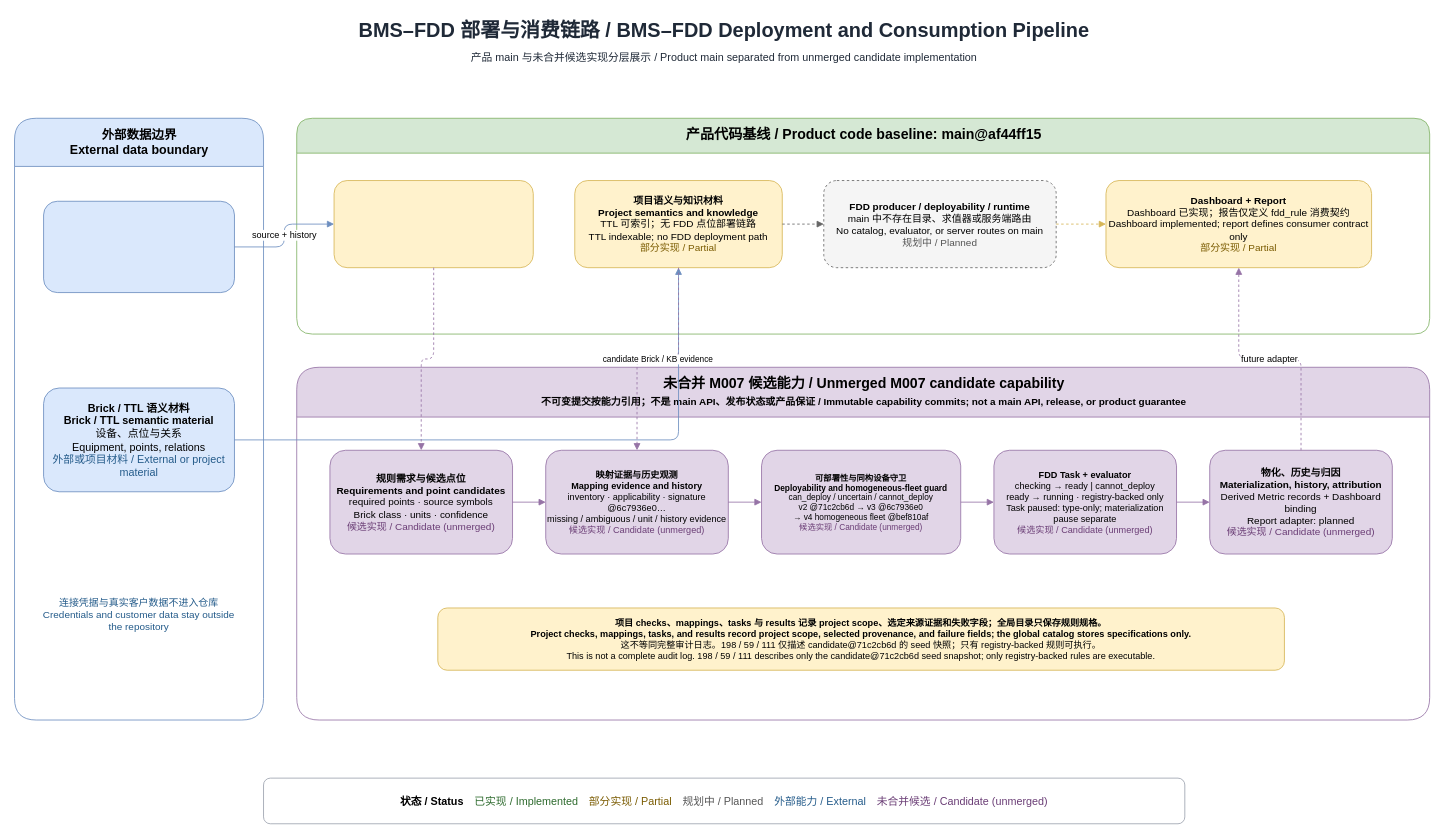
This 1444x838 diagram has some shape labels left out. Each missing label, with the centre of its shape:
BMS / Collector 点位目录与时序 Point inventory and time series 外部能力 / External: the point at 138,246
BMS 来源、发现与读取 BMS source, discovery, reads 本地与 collector 路径并存 部分实现 / Partial: the point at 433,224
